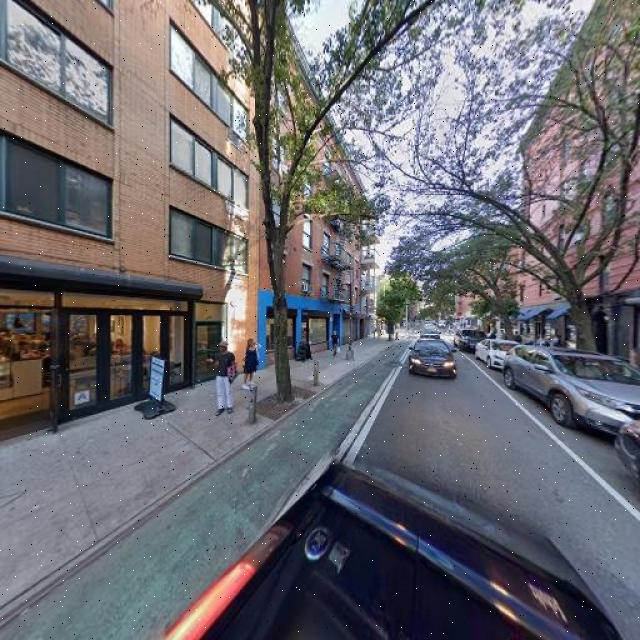Building: (1, 1, 257, 432), (534, 1, 640, 372), (259, 1, 358, 363)
